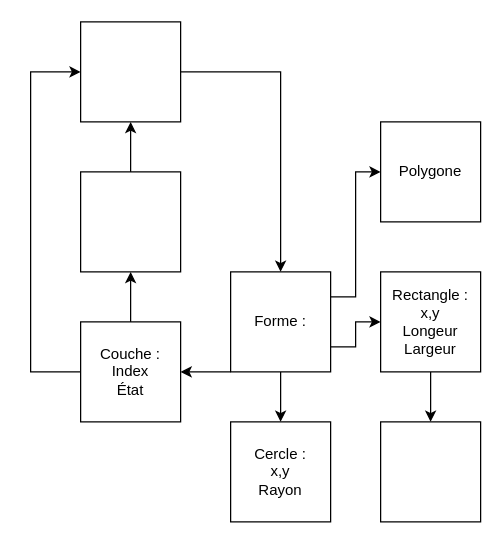
Some shapes in this 503 by 544 pixel diagram are drawn without their labels. The shapes that lost their labels are listed below. From the top down, each one's box as (x1, y1, x2, y2) in pixels, then its label:
(79, 21, 181, 122): Test
(79, 171, 181, 272): Caneva
(379, 421, 481, 522): Carré : x,y Longeur
